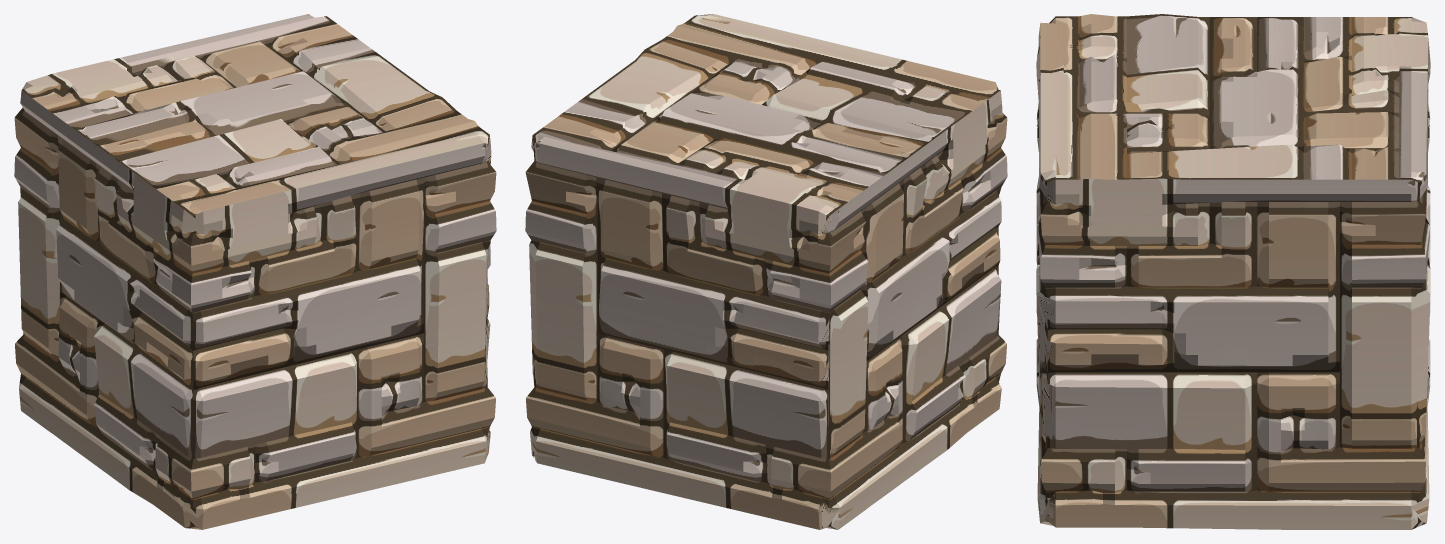
3 views of the same model, side by side, from view 1: azimuth 30°, elevation 25°; view 2: azimuth 150°, elevation 25°; view 3: azimuth 270°, elevation 25° (orthographic). The views are drawn at different scales.
Parts seen in each view (by area): view 1: Sześcian; view 2: Sześcian; view 3: Sześcian.
Boxes of the visible parts, x1,y1,x2,y2 form: Sześcian: [14, 14, 496, 529]; Sześcian: [525, 14, 1007, 529]; Sześcian: [1036, 14, 1430, 529].
Size of the model in its own units: 2.08 by 2.08 by 2.08.
Materials: 1 (1 with a texture image).
